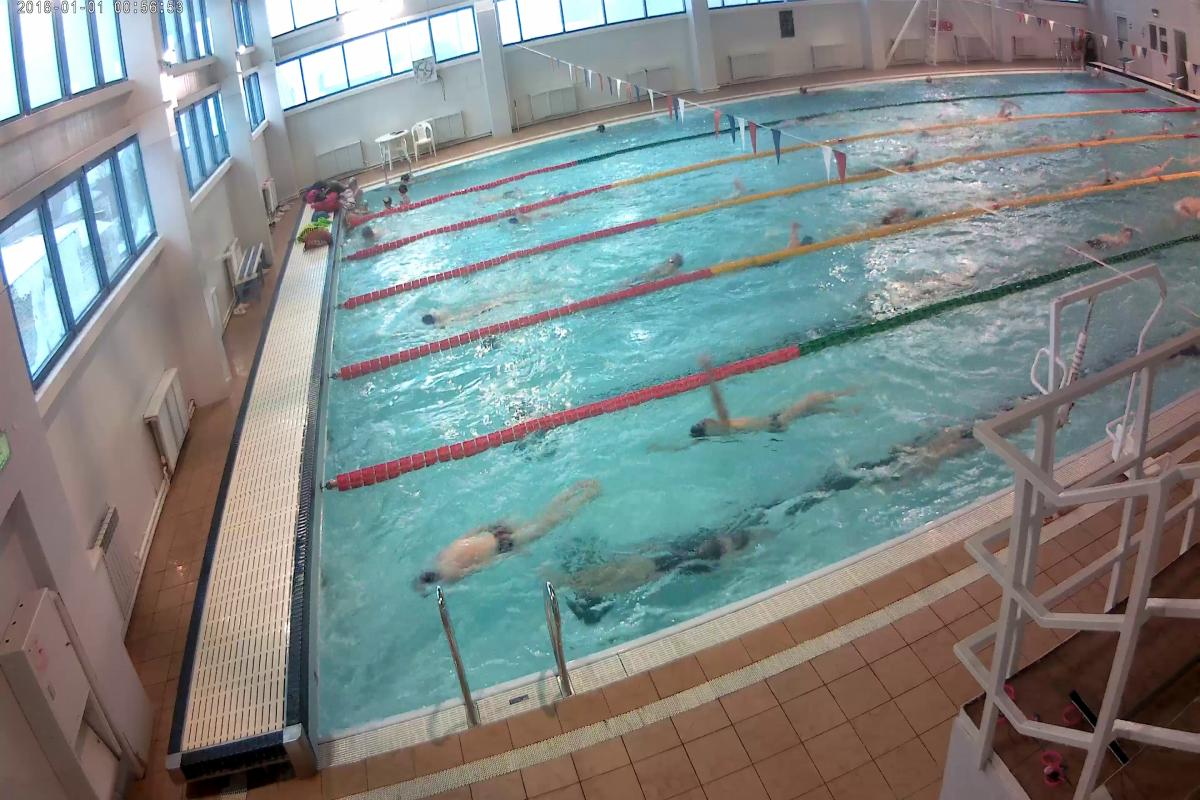swimmer: (411, 477, 595, 591), (676, 385, 846, 451), (594, 521, 745, 595), (414, 301, 510, 332), (1069, 218, 1139, 259), (630, 247, 690, 280), (776, 217, 814, 253), (357, 224, 385, 244)
